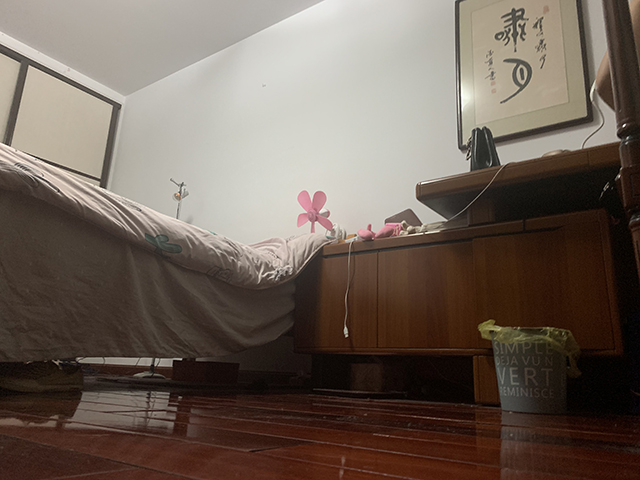bed: (1, 142, 334, 368)
cabinet: (292, 140, 621, 407)
trashcan: (477, 318, 582, 414)
wire: (76, 356, 161, 376)
